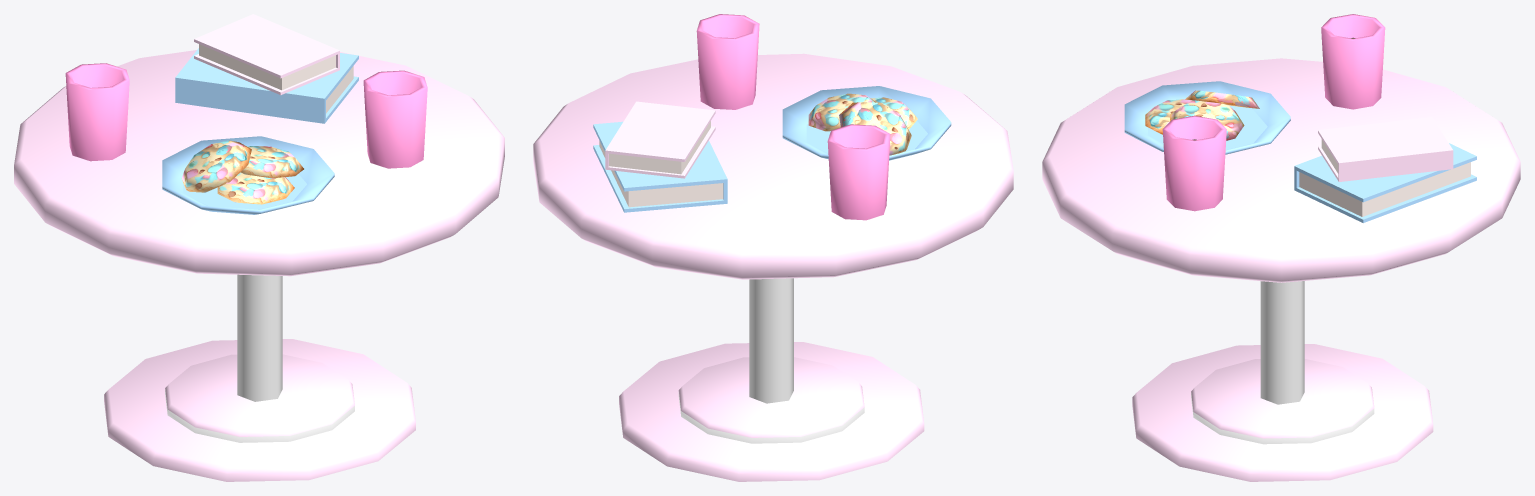
The model's file is CoffeeTable2.glb.
The picture shows the model from 3 angles, left to right: view 1: azimuth 30°, elevation 25°; view 2: azimuth 150°, elevation 25°; view 3: azimuth 270°, elevation 25°; orthographic projection. The views are drawn at different scales.
Visible parts, largest first — view 1: CoffeeTable2; view 2: CoffeeTable2; view 3: CoffeeTable2.
Boxes of the visible parts, <box> form: CoffeeTable2: <box>14,14,504,481</box>; CoffeeTable2: <box>533,14,1013,481</box>; CoffeeTable2: <box>1042,14,1520,481</box>.
Size of what is drawn, in the model's own units: 1.27 by 0.9744 by 1.27.
3 materials, 3 textured.
